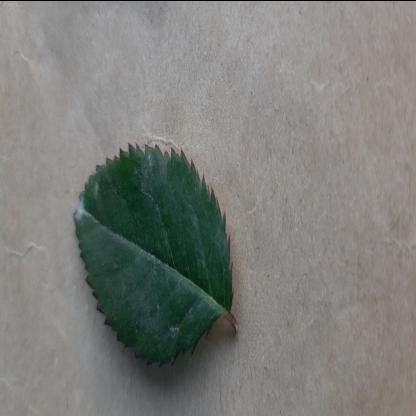normal: (76, 143, 233, 367)
